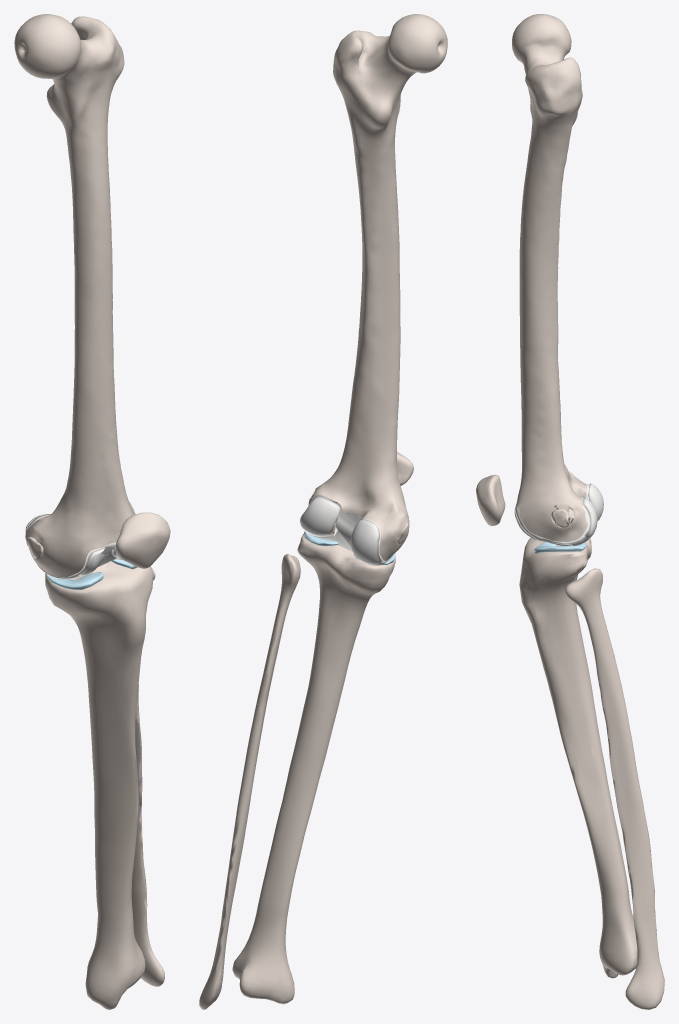
File: vh_m_knee_l-80.glb
3 views of the same model, side by side, from view 1: azimuth 30°, elevation 25°; view 2: azimuth 150°, elevation 25°; view 3: azimuth 270°, elevation 25° (orthographic). The views are drawn at different scales.
Visible parts, largest first — view 1: VH_M_femur_L, VH_M_tibia_L, VH_M_fibula_L, VH_M_patella_L, VH_M_meniscus_L, VH_M_articular_cartilage_of_knee_L; view 2: VH_M_femur_L, VH_M_tibia_L, VH_M_fibula_L, VH_M_lateral_condyle_of_femur_inf_L, VH_M_medial_condyle_of_left_femur_inf, VH_M_articular_cartilage_of_knee_L; view 3: VH_M_femur_L, VH_M_tibia_L, VH_M_fibula_L, VH_M_patella_L, VH_M_articular_cartilage_of_knee_L.
Part boxes in pixels (x1,y1,x2,y2): VH_M_femur_L: (14, 14, 135, 577); VH_M_tibia_L: (45, 561, 153, 1009); VH_M_fibula_L: (131, 568, 164, 986); VH_M_patella_L: (115, 512, 170, 568); VH_M_meniscus_L: (47, 559, 137, 589); VH_M_articular_cartilage_of_knee_L: (26, 514, 116, 579); VH_M_femur_L: (308, 14, 447, 560); VH_M_tibia_L: (232, 533, 395, 1004); VH_M_fibula_L: (199, 554, 300, 1009); VH_M_lateral_condyle_of_femur_inf_L: (300, 496, 340, 536); VH_M_medial_condyle_of_left_femur_inf: (350, 520, 380, 564); VH_M_articular_cartilage_of_knee_L: (306, 495, 388, 565); VH_M_femur_L: (512, 14, 587, 541); VH_M_tibia_L: (519, 537, 637, 978); VH_M_fibula_L: (565, 568, 664, 1009); VH_M_patella_L: (476, 474, 505, 525); VH_M_articular_cartilage_of_knee_L: (515, 483, 590, 545).
Size of the model in its own units: 0.1734 by 0.8875 by 0.1646.
